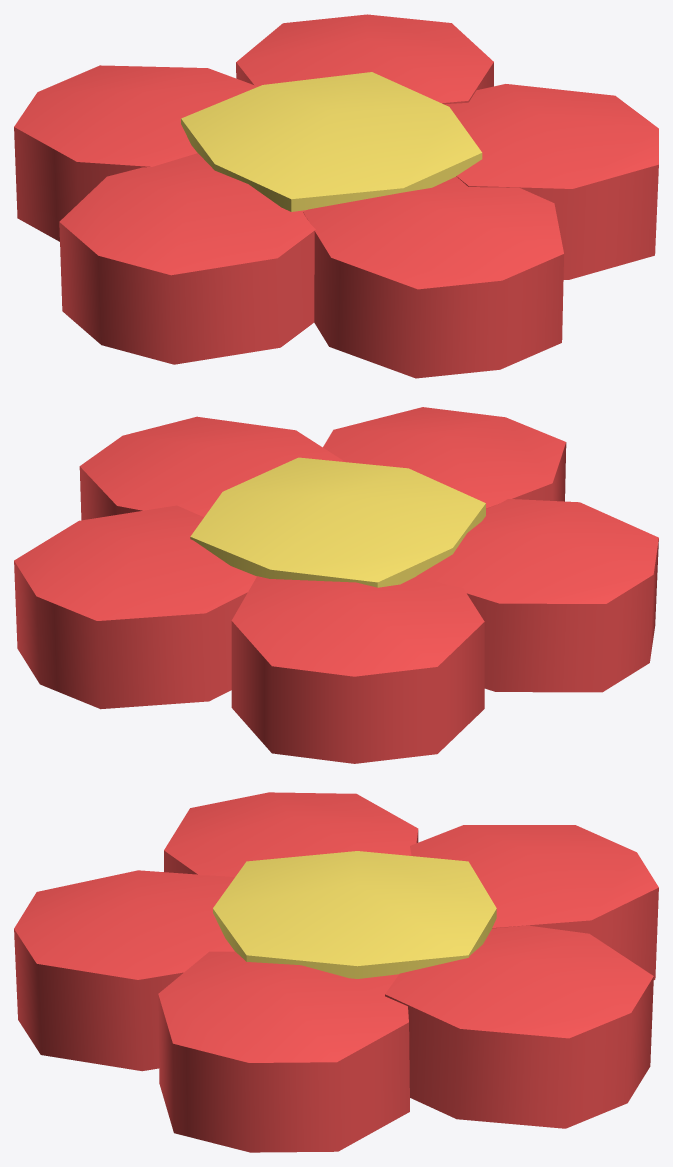
The model's file is Flower001.fbx.
The picture shows the model from 3 angles, top to bottom: view 1: azimuth 30°, elevation 25°; view 2: azimuth 150°, elevation 25°; view 3: azimuth 270°, elevation 25°; orthographic projection. The views are drawn at different scales.
Visible parts, largest first — view 1: Flower001; view 2: Flower001; view 3: Flower001.
Boxes of the visible parts, x1,y1,x2,y2 form: Flower001: [14, 14, 658, 378]; Flower001: [14, 407, 658, 763]; Flower001: [14, 792, 658, 1152].
Bounding box in the file's own units: 127 × 30.61 × 128.
